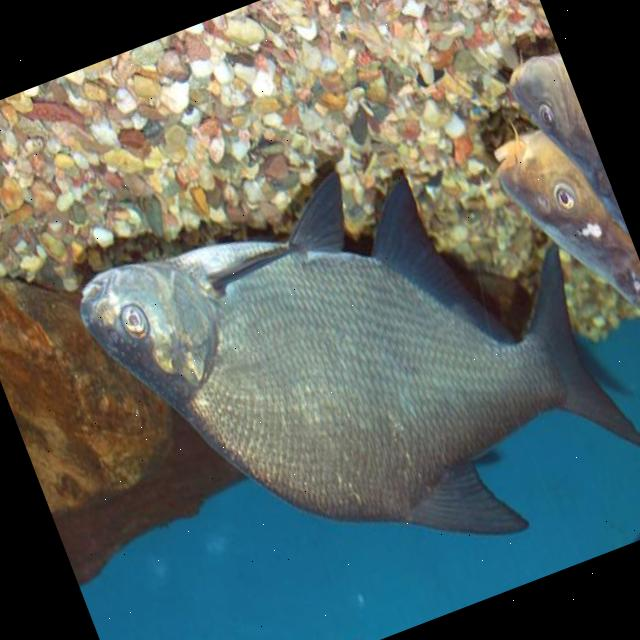ikan: (61, 94, 640, 640)
